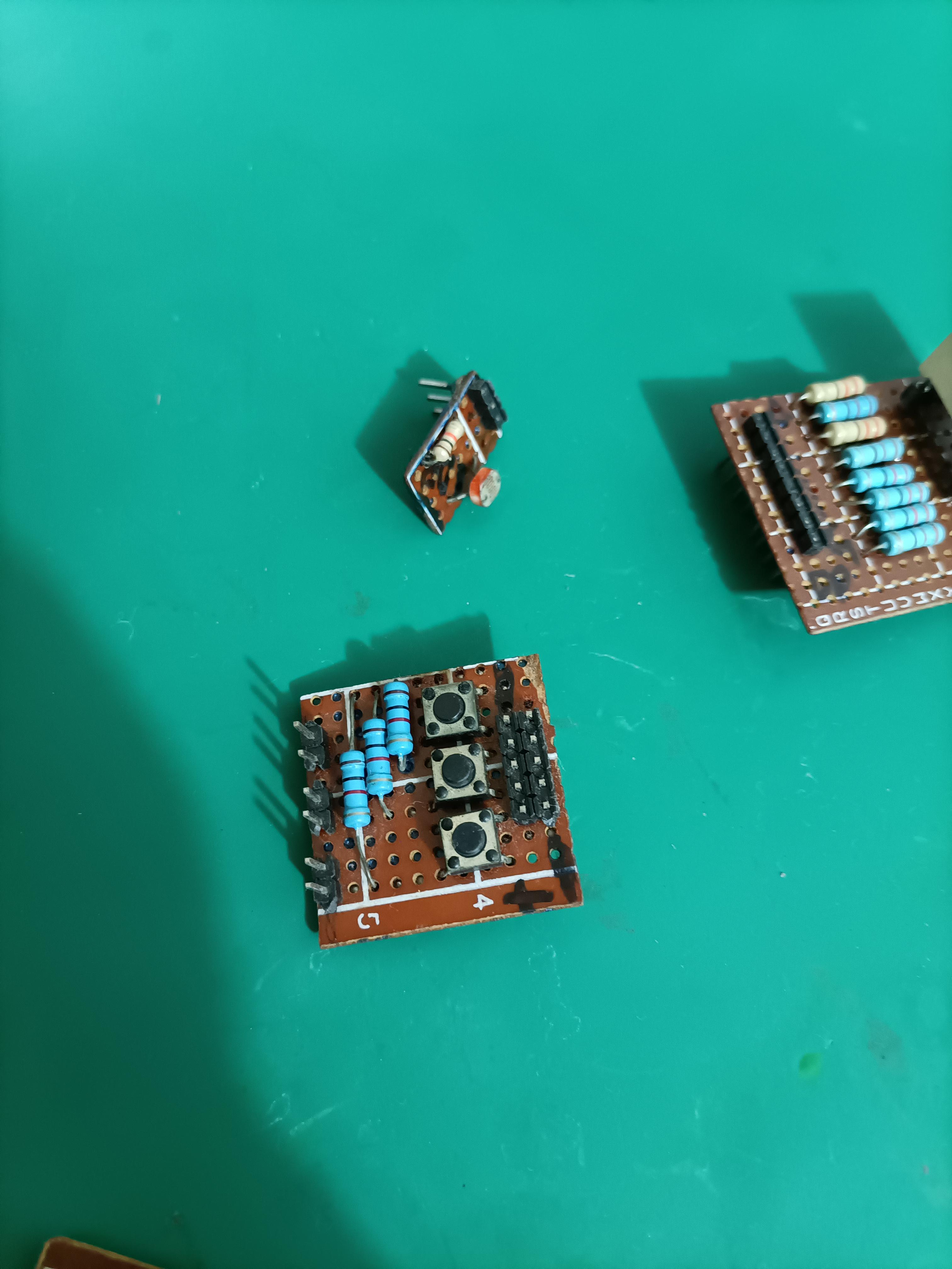Resistencia: (381, 674, 418, 763), (333, 745, 370, 831), (357, 719, 395, 798), (867, 539, 949, 563), (842, 473, 923, 497), (809, 408, 890, 432), (798, 390, 879, 414), (861, 517, 942, 540), (853, 497, 934, 520), (835, 449, 916, 472), (817, 428, 898, 451), (447, 412, 471, 470)
